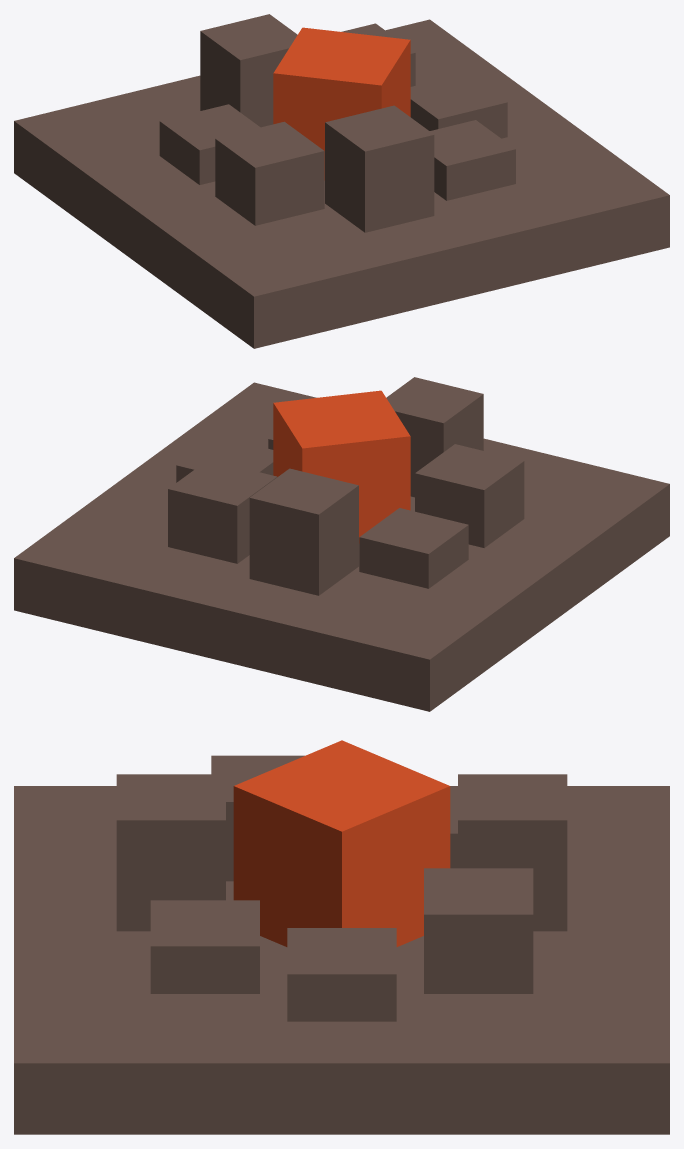
The model's file is volcanic.glb.
3 views of the same model, one above another, from view 1: azimuth 30°, elevation 25°; view 2: azimuth 150°, elevation 25°; view 3: azimuth 270°, elevation 25° (orthographic). The views are drawn at different scales.
Parts seen in each view (by area): view 1: volcanic base, volcanic relief.005, volcanic lava, volcanic relief.004, volcanic relief.002, volcanic relief.006, volcanic relief.003, volcanic relief, volcanic relief.001; view 2: volcanic base, volcanic lava, volcanic relief.002, volcanic relief.004, volcanic relief.001, volcanic relief.003, volcanic relief.005, volcanic relief; view 3: volcanic base, volcanic lava, volcanic relief.005, volcanic relief.001, volcanic relief.002, volcanic relief, volcanic relief.006, volcanic relief.004, volcanic relief.003.
Part boxes in pixels (box(x1,y1,x2,y2)): volcanic base: box(14, 19, 669, 348); volcanic relief.005: box(325, 105, 434, 232); volcanic lava: box(273, 27, 410, 180); volcanic relief.004: box(215, 121, 324, 225); volcanic relief.002: box(200, 14, 297, 127); volcanic relief.006: box(430, 120, 515, 200); volcanic relief.003: box(159, 104, 260, 184); volcanic relief: box(410, 73, 507, 138); volcanic relief.001: box(341, 23, 415, 86); volcanic base: box(14, 382, 669, 711); volcanic lava: box(273, 390, 410, 543); volcanic relief.002: box(249, 468, 358, 595); volcanic relief.004: box(415, 444, 524, 547); volcanic relief.001: box(168, 459, 277, 563); volcanic relief.003: box(359, 508, 468, 588); volcanic relief.005: box(386, 377, 483, 497); volcanic relief: box(176, 436, 273, 482); volcanic base: box(14, 786, 669, 1134); volcanic lava: box(233, 740, 450, 946); volcanic relief.005: box(116, 774, 225, 931); volcanic relief.001: box(424, 868, 533, 993); volcanic relief.002: box(458, 774, 567, 931); volcanic relief: box(287, 928, 396, 1021); volcanic relief.006: box(150, 900, 259, 993); volcanic relief.004: box(211, 755, 304, 881); volcanic relief.003: box(450, 787, 457, 868).
Bounding box in the file's own units: 3 × 1.06 × 3.
